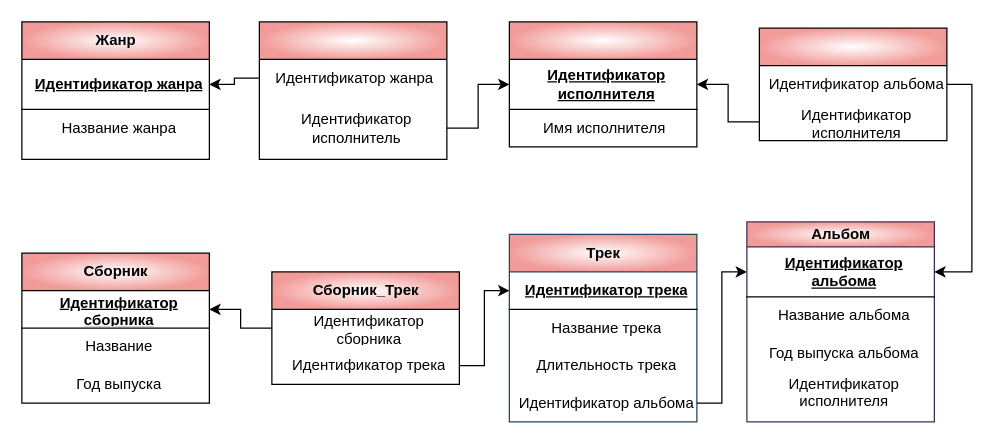
This 1004x444 diagram has some shape labels left out. Each missing label, with the box of its shape:
Альбом_Исполнитель: (758, 27, 947, 141)
Жанр_Исполнитель: (258, 21, 447, 159)
Исполнитель: (508, 21, 697, 147)
